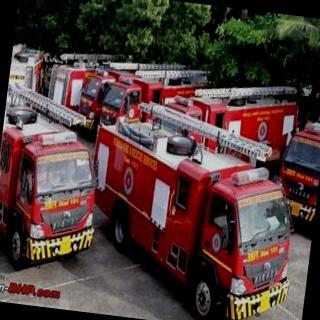Fire_truck: (74, 91, 309, 320)
